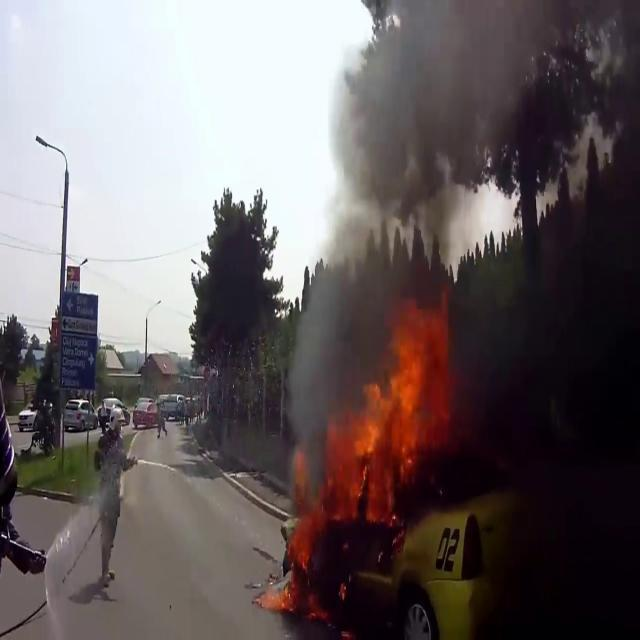Fire: (319, 306, 451, 521)
Smoke: (278, 0, 554, 455)
